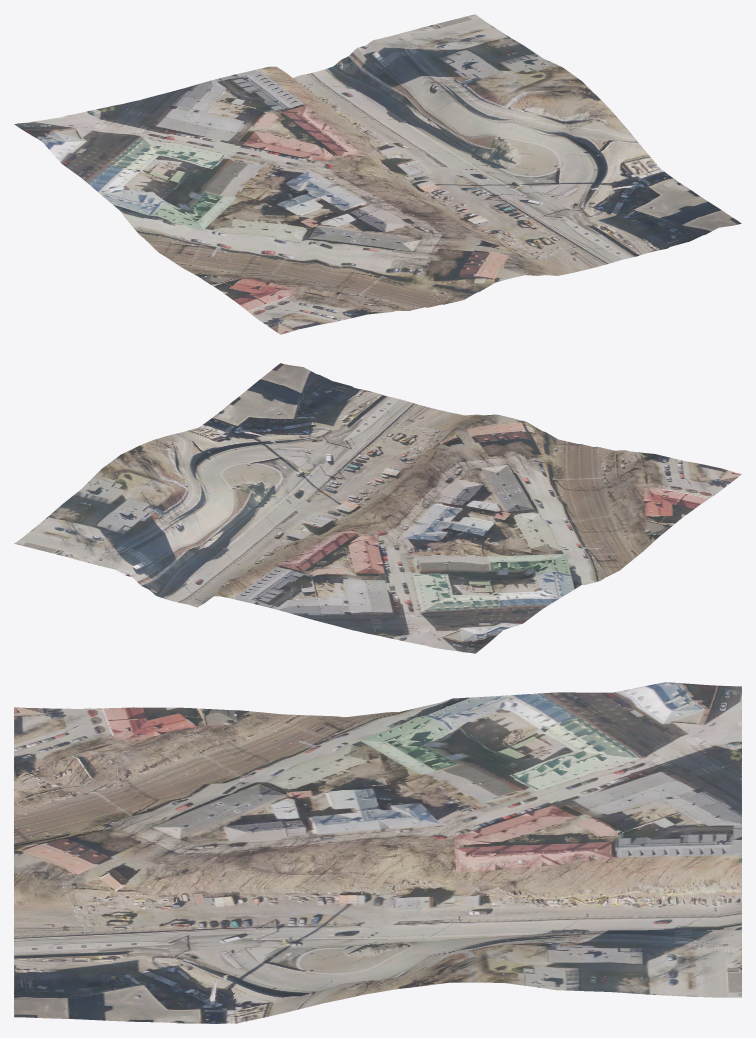
The model's file is CM_Terrain_24487797_6821636.fbx.
The picture shows the model from 3 angles, top to bottom: view 1: azimuth 30°, elevation 25°; view 2: azimuth 150°, elevation 25°; view 3: azimuth 270°, elevation 25°; orthographic projection. The views are drawn at different scales.
Parts seen in each view (by area): view 1: CM_Terrain_24487797_6821636_LOD0; view 2: CM_Terrain_24487797_6821636_LOD0; view 3: CM_Terrain_24487797_6821636_LOD0.
Boxes of the visible parts, box(x1,y1,x2,y2) form: CM_Terrain_24487797_6821636_LOD0: box(14, 14, 741, 334); CM_Terrain_24487797_6821636_LOD0: box(14, 363, 741, 653); CM_Terrain_24487797_6821636_LOD0: box(14, 682, 741, 1023).
Size of what is drawn, in the model's own units: 205 by 14.35 by 205.
